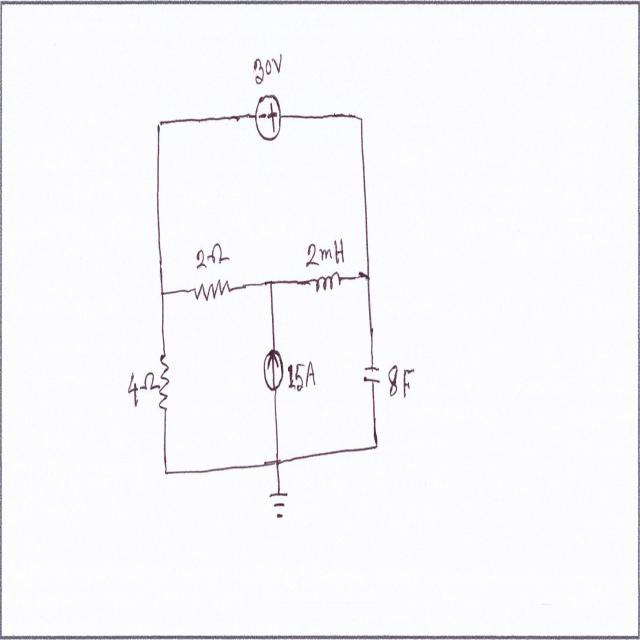capacitor: (362, 362, 382, 390)
current_source: (263, 347, 285, 391)
ground: (269, 488, 291, 520)
inductor: (307, 268, 343, 298)
resistor: (192, 275, 232, 306), (158, 352, 172, 412)
voltage_source: (255, 90, 283, 146)
